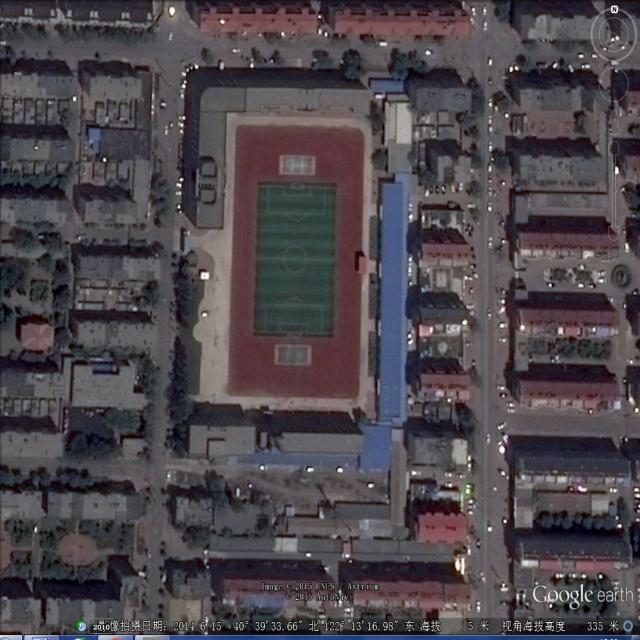playground: (226, 123, 366, 404)
